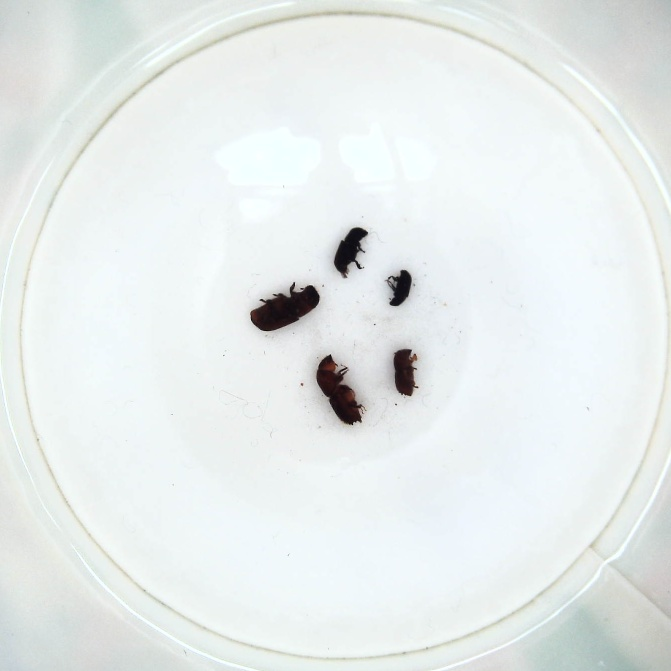armandi: (335, 224, 369, 277)
boerner: (314, 350, 368, 427)
coleoptera: (385, 266, 415, 311)
leconte: (246, 280, 324, 332)
linnaeus: (390, 344, 421, 397)
